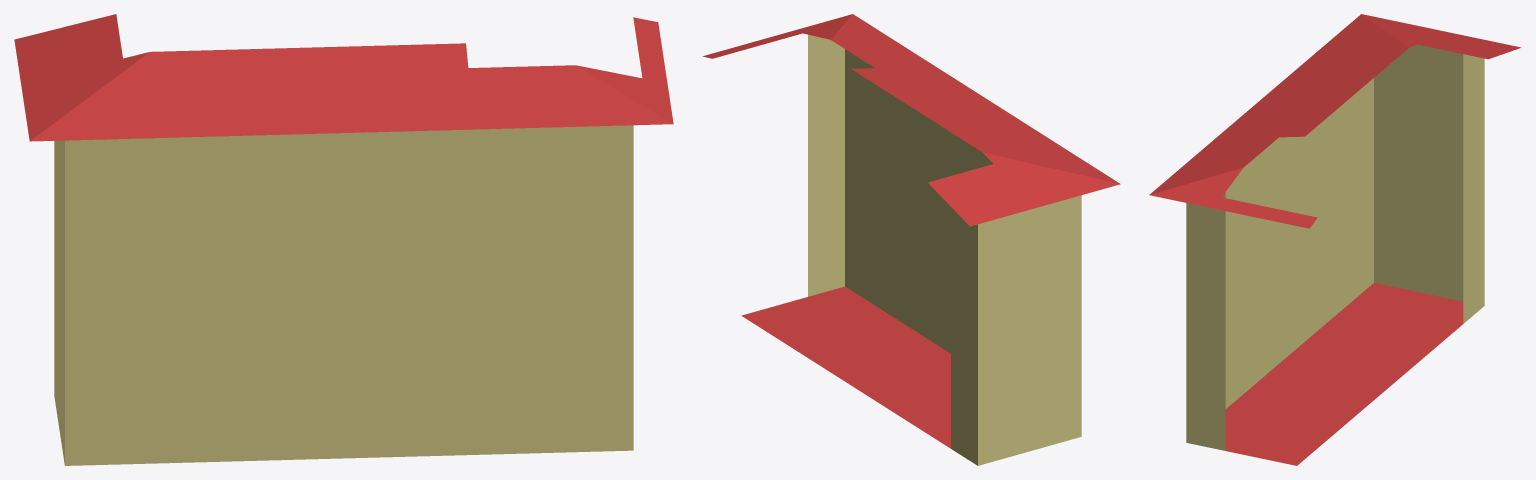
The picture shows the model from 3 angles, left to right: view 1: azimuth 30°, elevation 25°; view 2: azimuth 150°, elevation 25°; view 3: azimuth 270°, elevation 25°; orthographic projection. The views are drawn at different scales.
Parts seen in each view (by area): view 1: group_5, group_3, group_4; view 2: group_5, group_3, group_6; view 3: group_5, group_6, group_3.
Boxes of the visible parts, x1,y1,x2,y2 form: group_5: (54,125,633,465); group_3: (14,14,673,141); group_4: (18,17,665,118); group_5: (808,34,1081,465); group_3: (702,14,1120,226); group_6: (741,286,950,448); group_5: (1186,44,1484,450); group_6: (1225,283,1463,465); group_3: (1149,14,1521,228).
Size of the model in its own units: 13.66 by 10.02 by 8.14.
